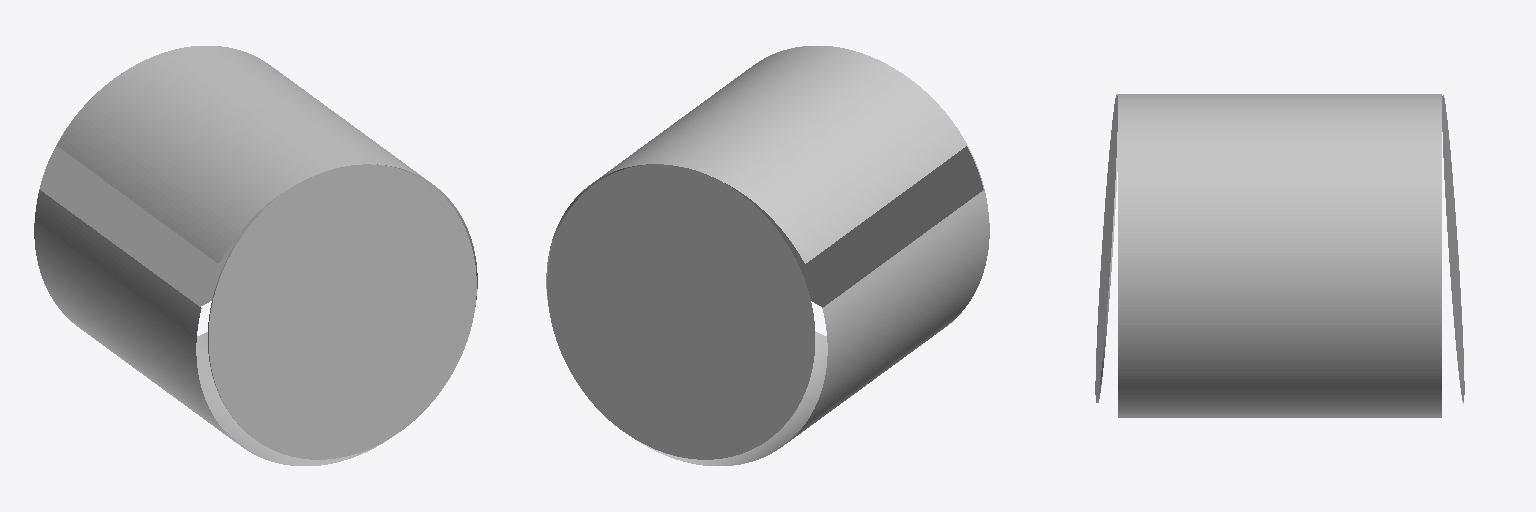
File: plane bend87.obj
The picture shows the model from 3 angles: view 1: azimuth 30°, elevation 25°; view 2: azimuth 150°, elevation 25°; view 3: azimuth 270°, elevation 25°; orthographic projection.
Visible parts, largest first — view 1: Circle, Plane, Circle.001; view 2: Circle.001, Plane, Circle; view 3: Plane, Circle, Circle.001.
Part boxes in pixels (x1,y1,x2,y2): Circle: (208,164,476,459); Plane: (34,46,477,465); Circle.001: (36,73,280,306); Circle.001: (547,164,814,459); Plane: (546,46,989,465); Circle: (725,73,987,307); Plane: (1118,94,1441,417); Circle: (1095,94,1117,402); Circle.001: (1442,95,1464,402).
Bounding box in the file's own units: 2 × 2 × 2.28.